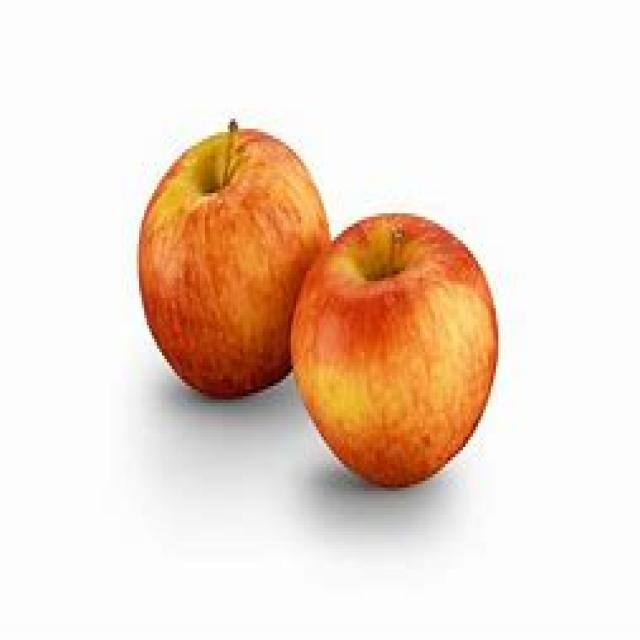apple: (289, 209, 502, 490), (136, 119, 292, 403)
